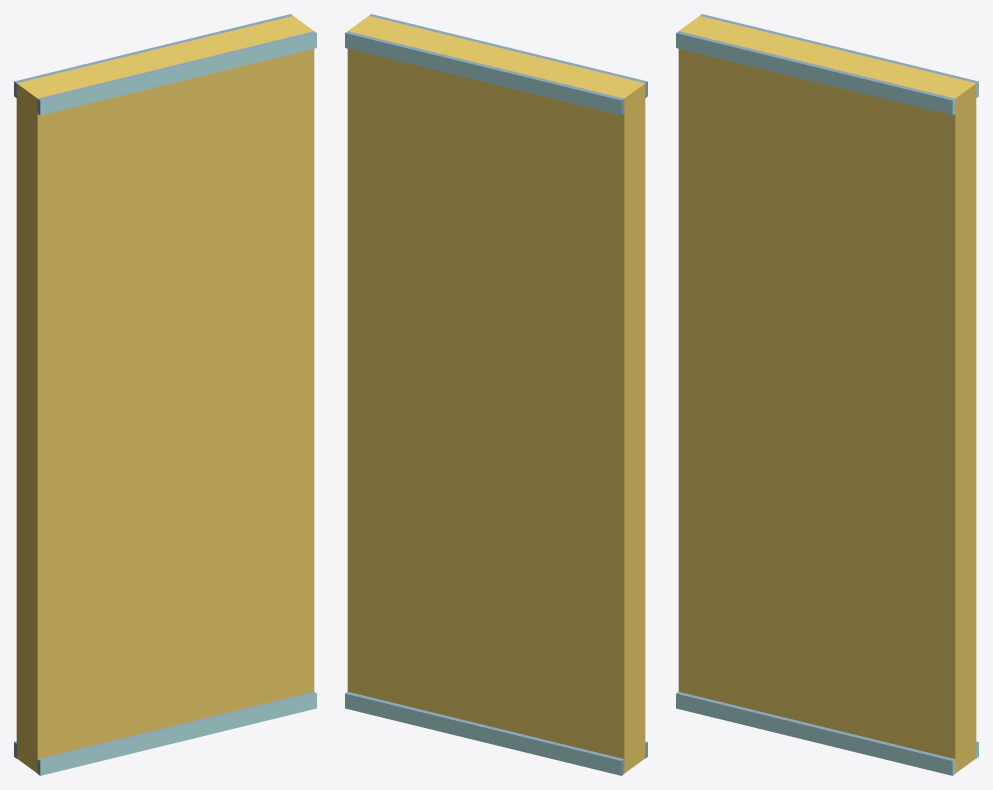
The model's file is Wall Plane Half .fbx.
The picture shows the model from 3 angles, left to right: view 1: azimuth 30°, elevation 25°; view 2: azimuth 150°, elevation 25°; view 3: azimuth 330°, elevation 25°; orthographic projection.
Parts seen in each view (by area): view 1: Wall Plane Half; view 2: Wall Plane Half; view 3: Wall Plane Half.
Part boxes in pixels (box(x1,y1,x2,y2)): Wall Plane Half: box(14, 14, 316, 775); Wall Plane Half: box(345, 14, 647, 775); Wall Plane Half: box(676, 14, 978, 775).
Bounding box in the file's own units: 300 × 700 × 49.07.
